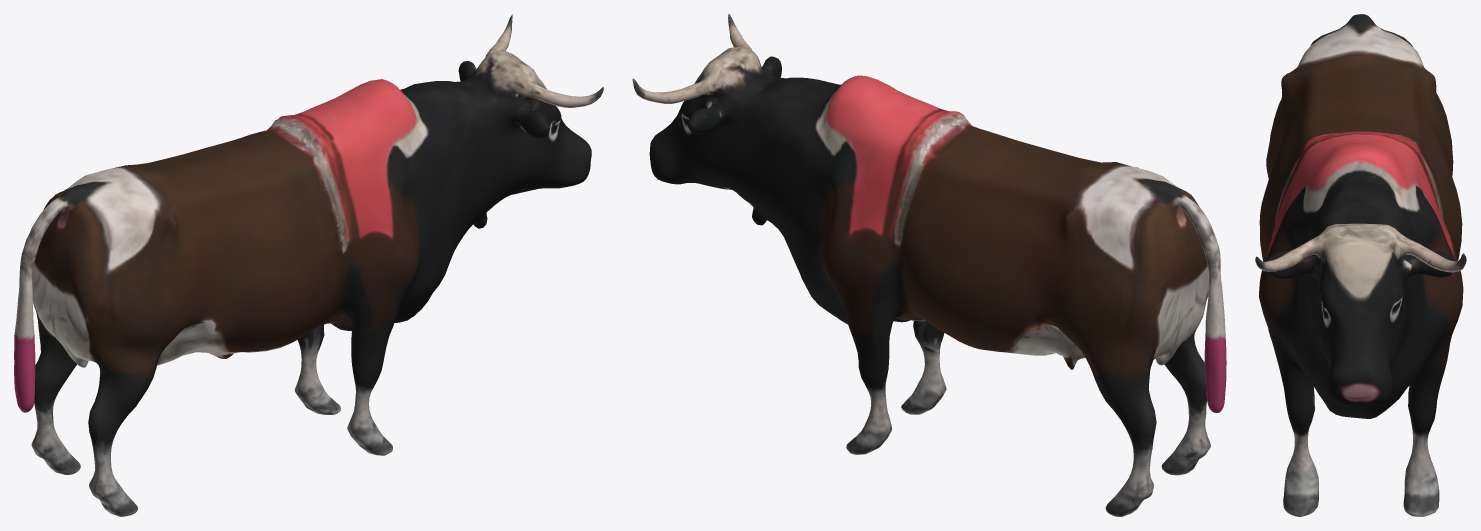
3 renders of one model, left to right at view 1: azimuth 30°, elevation 25°; view 2: azimuth 150°, elevation 25°; view 3: azimuth 270°, elevation 25°, orthographic. The views are drawn at different scales.
Visible parts, largest first — view 1: Mesh; view 2: Mesh; view 3: Mesh.
Part boxes in pixels (x1,y1,x2,y2): Mesh: (14, 14, 603, 516); Mesh: (632, 14, 1226, 516); Mesh: (1255, 14, 1466, 516).
Size of the model in its own units: 0.9033 by 0.5181 by 0.2617.
Materials: 1 (1 with a texture image).
